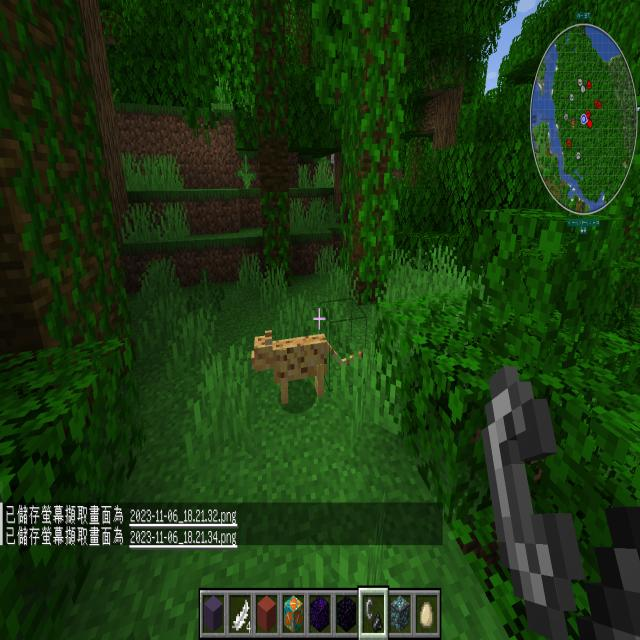Ocelot: (243, 318, 369, 417)
